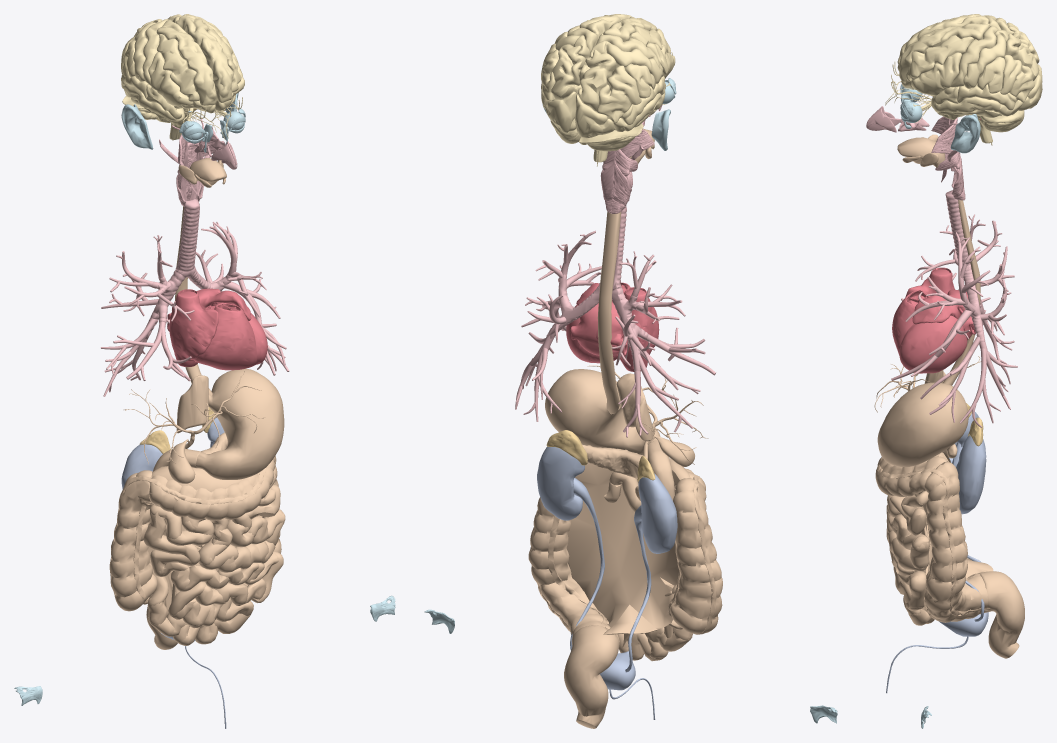
Rendered from anat-organs.glb.
3 renders of one model, left to right at view 1: azimuth 30°, elevation 25°; view 2: azimuth 150°, elevation 25°; view 3: azimuth 270°, elevation 25°, orthographic. The views are drawn at different scales.
Parts seen in each view (by area): view 1: FJ2564|digestive|Stomach, FJ2566|digestive|Ascending colon, FJ2572|digestive|Transverse colon, FJ2428|cardiac|Wall of ventricle, FJ2439|cardiac|Wall of right atrium, FJ1834|nervous|Right superior frontal gyrus, FJ1833|nervous|Left superior frontal gyrus, FJ2816|digestive|Caudate lobe of liver, FJ1788|nervous|Right middle frontal gyrus, FJ2541|respiratory|Trachea, FJ2621|digestive|Distal part of jejunum, FJ1745|nervous|Right inferior frontal gyrus (+9 smaller); view 2: FJ3398|digestive|Transverse mesocolon, FJ2566|digestive|Ascending colon, FJ2564|digestive|Stomach, FJ2567|digestive|Descending colon, FJ2571|digestive|Rectum, FJ2563|digestive|Esophagus, FJ3145|urinary|Left kidney, FJ3147|urinary|Right kidney, FJ1733|nervous|Right angular gyrus, FJ2573|digestive|Duodenum, FJ1836|nervous|Right superior parietal lobule, FJ1835|nervous|Left superior parietal lobule (+18 smaller); view 3: FJ2567|digestive|Descending colon, FJ2564|digestive|Stomach, FJ2428|cardiac|Wall of ventricle, FJ2571|digestive|Rectum, FJ3145|urinary|Left kidney, FJ2572|digestive|Transverse colon, FJ1833|nervous|Left superior frontal gyrus, FJ1787|nervous|Left middle frontal gyrus, FJ1744|nervous|Left inferior frontal gyrus, FJ2570|digestive|Taenia omentalis, FJ2438|cardiac|Wall of left atrium, FJ1732|nervous|Left angular gyrus (+31 smaller).
Boxes of the visible parts, left/top/right/bottom form: FJ2564|digestive|Stomach: left=196, top=368, right=284, bottom=479; FJ2566|digestive|Ascending colon: left=109, top=470, right=157, bottom=611; FJ2572|digestive|Transverse colon: left=149, top=456, right=275, bottom=520; FJ2428|cardiac|Wall of ventricle: left=194, top=302, right=267, bottom=370; FJ2439|cardiac|Wall of right atrium: left=169, top=289, right=218, bottom=366; FJ1834|nervous|Right superior frontal gyrus: left=156, top=19, right=216, bottom=105; FJ1833|nervous|Left superior frontal gyrus: left=176, top=16, right=233, bottom=102; FJ2816|digestive|Caudate lobe of liver: left=176, top=375, right=208, bottom=433; FJ1788|nervous|Right middle frontal gyrus: left=157, top=34, right=199, bottom=101; FJ2541|respiratory|Trachea: left=175, top=199, right=199, bottom=277; FJ2621|digestive|Distal part of jejunum: left=143, top=509, right=200, bottom=565; FJ1745|nervous|Right inferior frontal gyrus: left=148, top=52, right=193, bottom=106; FJ3398|digestive|Transverse mesocolon: left=566, top=454, right=690, bottom=634; FJ2566|digestive|Ascending colon: left=670, top=478, right=722, bottom=634; FJ2564|digestive|Stomach: left=545, top=369, right=660, bottom=455; FJ2567|digestive|Descending colon: left=528, top=476, right=619, bottom=647; FJ2571|digestive|Rectum: left=564, top=625, right=619, bottom=728; FJ2563|digestive|Esophagus: left=597, top=211, right=621, bottom=414; FJ3145|urinary|Left kidney: left=537, top=446, right=584, bottom=520; FJ3147|urinary|Right kidney: left=638, top=473, right=677, bottom=553; FJ1733|nervous|Right angular gyrus: left=597, top=65, right=641, bottom=123; FJ2573|digestive|Duodenum: left=609, top=441, right=674, bottom=512; FJ1836|nervous|Right superior parietal lobule: left=578, top=49, right=616, bottom=111; FJ1835|nervous|Left superior parietal lobule: left=551, top=44, right=585, bottom=99; FJ2567|digestive|Descending colon: left=923, top=462, right=987, bottom=622; FJ2564|digestive|Stomach: left=877, top=382, right=968, bottom=466; FJ2428|cardiac|Wall of ventricle: left=892, top=290, right=967, bottom=373; FJ2571|digestive|Rectum: left=978, top=571, right=1024, bottom=658; FJ3145|urinary|Left kidney: left=956, top=435, right=986, bottom=514; FJ2572|digestive|Transverse colon: left=875, top=456, right=947, bottom=496; FJ1833|nervous|Left superior frontal gyrus: left=897, top=23, right=989, bottom=81; FJ1787|nervous|Left middle frontal gyrus: left=906, top=35, right=973, bottom=82; FJ1744|nervous|Left inferior frontal gyrus: left=911, top=52, right=961, bottom=95; FJ2570|digestive|Taenia omentalis: left=877, top=457, right=990, bottom=615; FJ2438|cardiac|Wall of left atrium: left=912, top=289, right=975, bottom=339; FJ1732|nervous|Left angular gyrus: left=1000, top=55, right=1034, bottom=102.
Size of the model in its own units: 0.5418 by 0.9219 by 0.2188.
